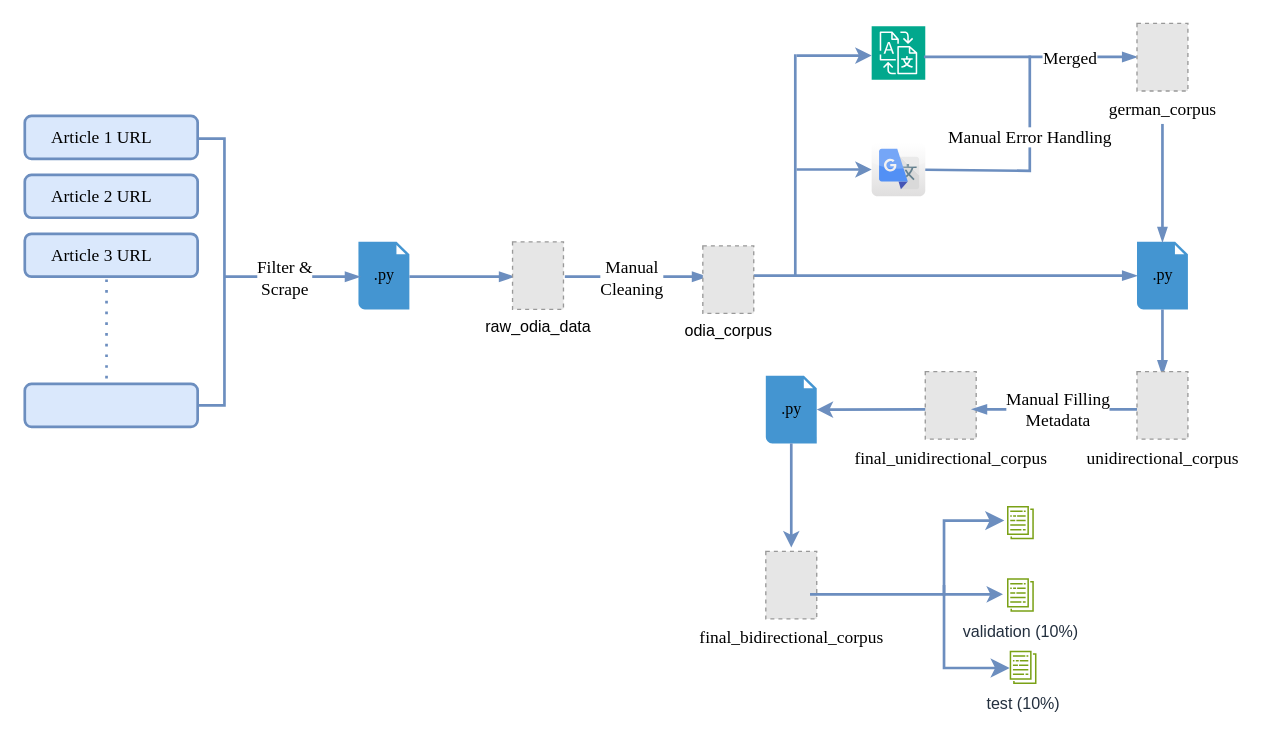
Some shapes in this 1261 by 737 pixel diagram are drawn without their labels. Grey dashed boxes stand in for pictures. Here are the shapes that lost their labels. From the top down, the centre of each, then its label:
At (897,52): "Manual Translation".
At (897,169): "Google Translator".
At (110,404): "Article 298 URL".
At (1019,522): "train (80%)".
